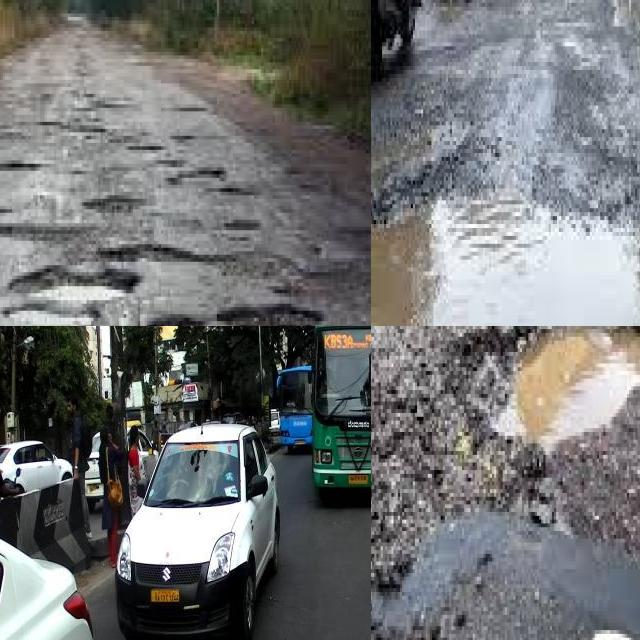Pothole: (371, 204, 640, 326), (468, 326, 640, 459), (7, 244, 240, 293), (154, 307, 324, 326), (84, 195, 147, 216), (0, 223, 87, 237), (298, 262, 356, 279), (166, 167, 226, 181), (217, 220, 261, 237)
